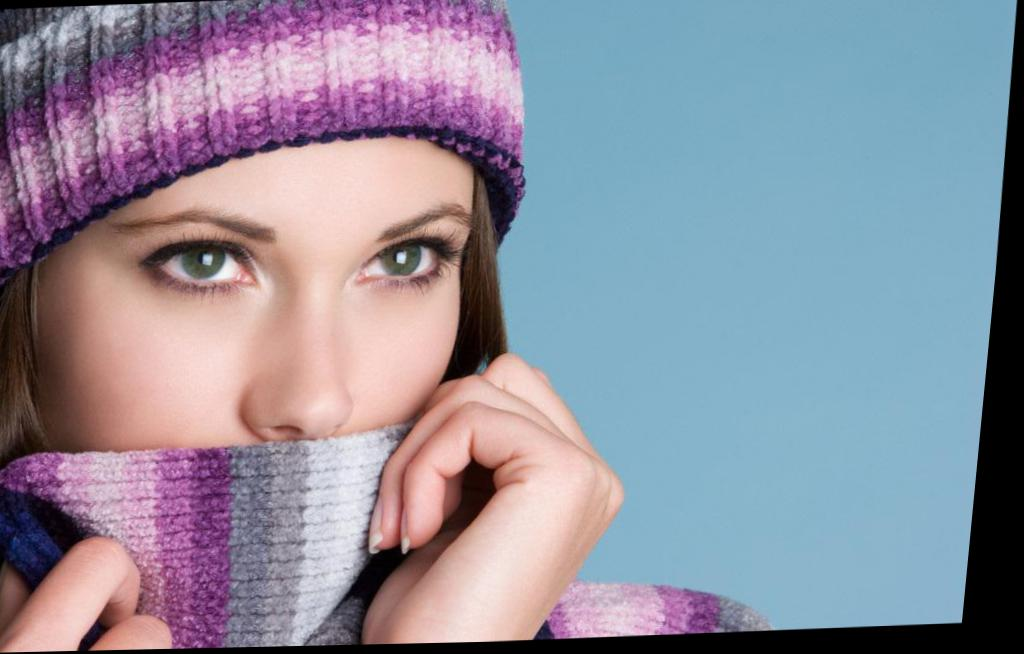WRONG: (73, 157, 489, 588)
